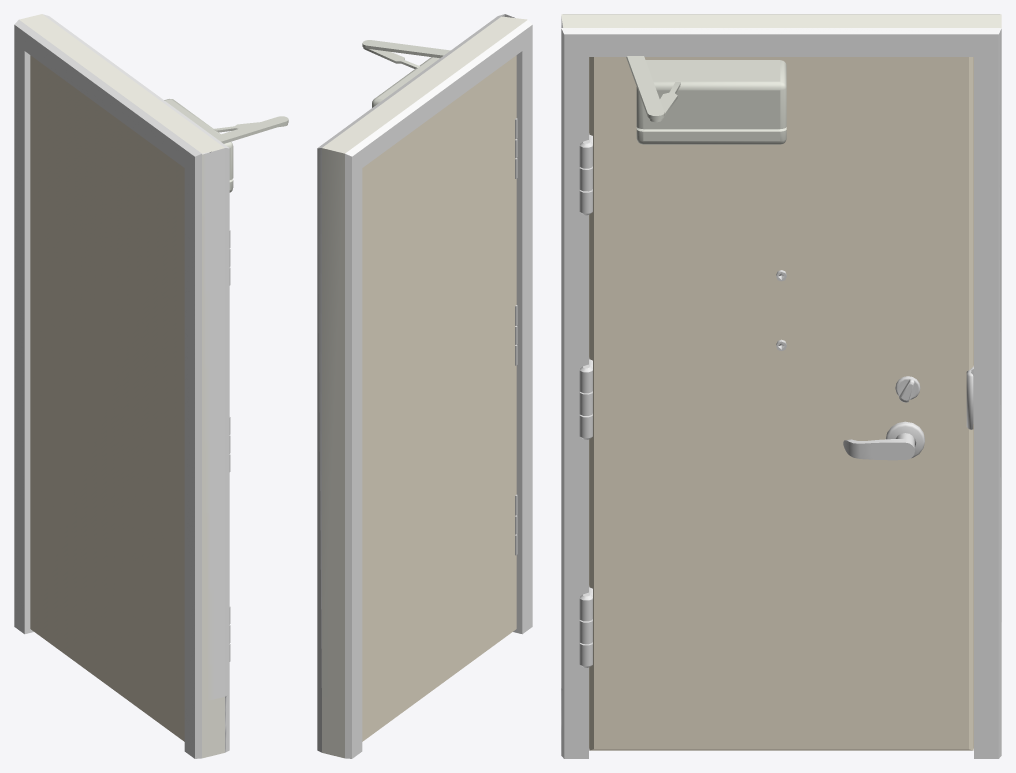
The model's file is ncssm_door.glb.
3 views of the same model, side by side, from view 1: azimuth 30°, elevation 25°; view 2: azimuth 150°, elevation 25°; view 3: azimuth 270°, elevation 25° (orthographic). The views are drawn at different scales.
Parts seen in each view (by area): view 1: Cube.001; view 2: Cube.001; view 3: Cube.001.
Part boxes in pixels (box(x1,y1,x2,y2)): Cube.001: box(14, 14, 288, 758); Cube.001: box(317, 14, 532, 758); Cube.001: box(561, 14, 1001, 758).
Size of the model in its own units: 1.36 by 5.98 by 3.28.
Materials: 1 (1 with a texture image).
